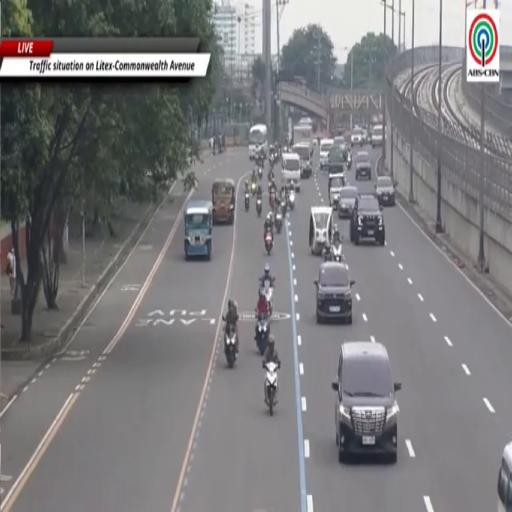bus: (498, 442, 511, 511), (249, 124, 267, 161)
car: (332, 342, 401, 462), (315, 262, 354, 324), (350, 195, 385, 245), (338, 186, 358, 218), (375, 175, 395, 205), (354, 152, 372, 180), (319, 139, 333, 170), (370, 125, 384, 148), (351, 127, 363, 146), (363, 128, 369, 143)
jeepney: (184, 200, 212, 260), (212, 178, 236, 224)
motorcycle: (262, 361, 280, 415), (256, 315, 270, 355), (225, 325, 237, 367), (260, 280, 273, 315), (324, 245, 344, 262), (264, 286, 273, 315), (330, 244, 344, 262), (265, 231, 273, 254), (275, 212, 282, 233), (269, 189, 276, 209), (288, 190, 294, 210), (281, 201, 287, 217), (256, 198, 261, 217), (268, 169, 274, 182), (251, 182, 257, 195), (245, 192, 249, 211), (347, 153, 351, 169), (258, 168, 262, 180)
truck: (293, 124, 313, 153)
